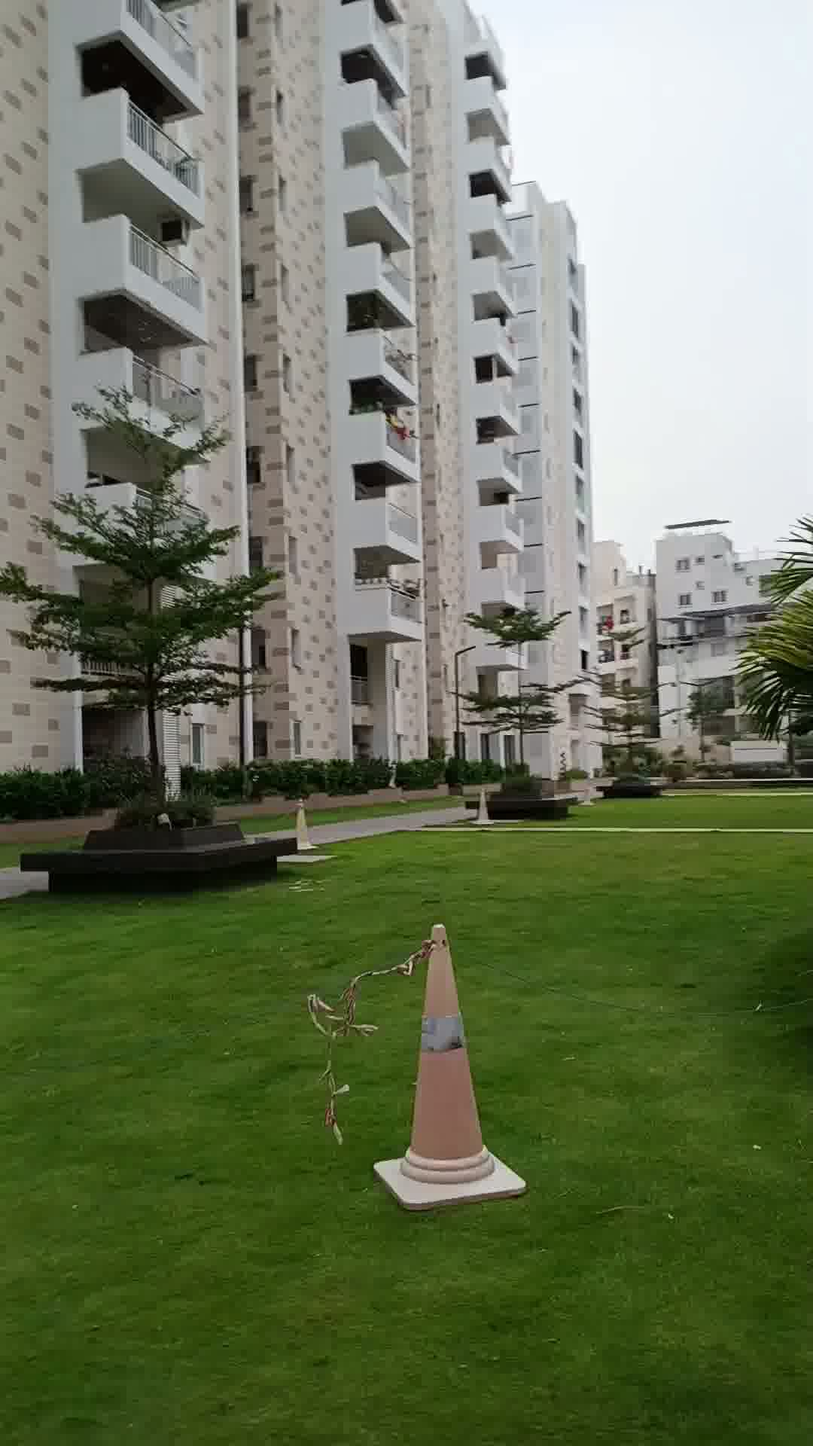tree: (17, 384, 276, 820), (455, 589, 572, 777), (595, 632, 671, 800)
